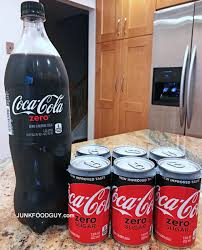can: (112, 156, 159, 250), (66, 148, 107, 248), (159, 156, 202, 248)
